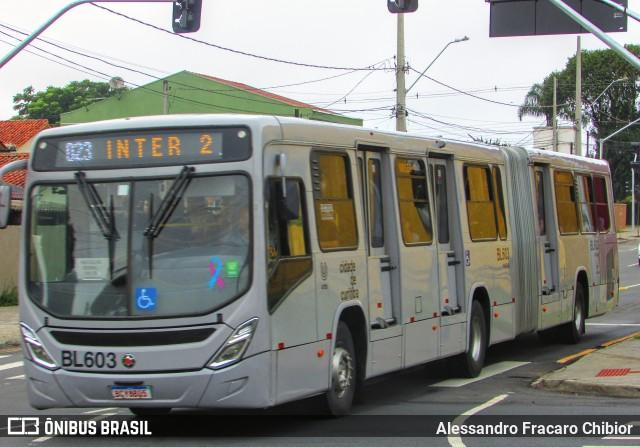INTER 2: (101, 132, 216, 164)
